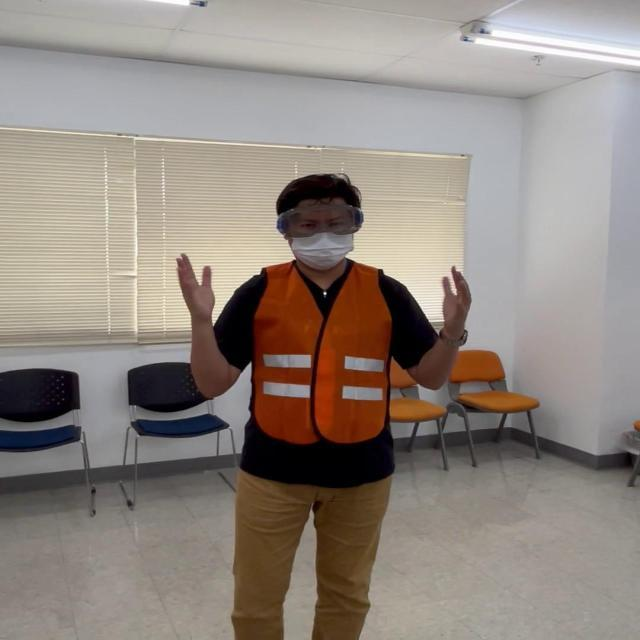bare_hand: (172, 248, 216, 324), (438, 260, 473, 345)
